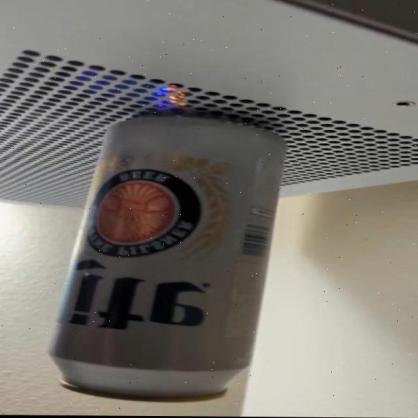can: (45, 122, 287, 405)
